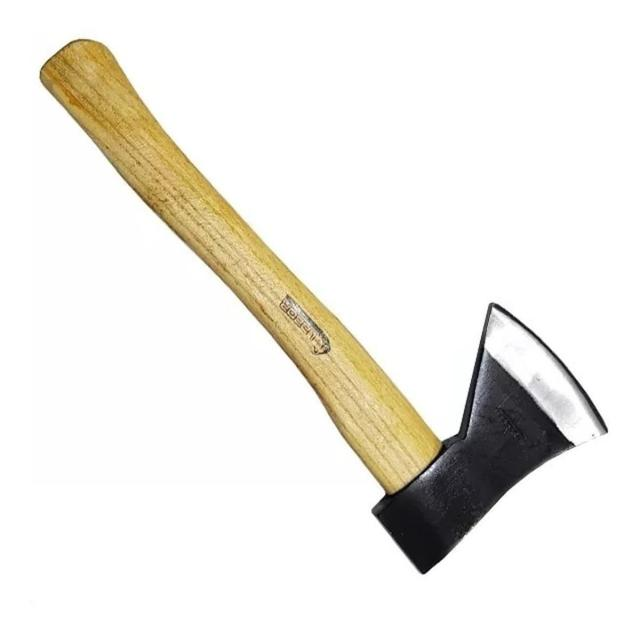Kapak: (30, 24, 606, 584)
